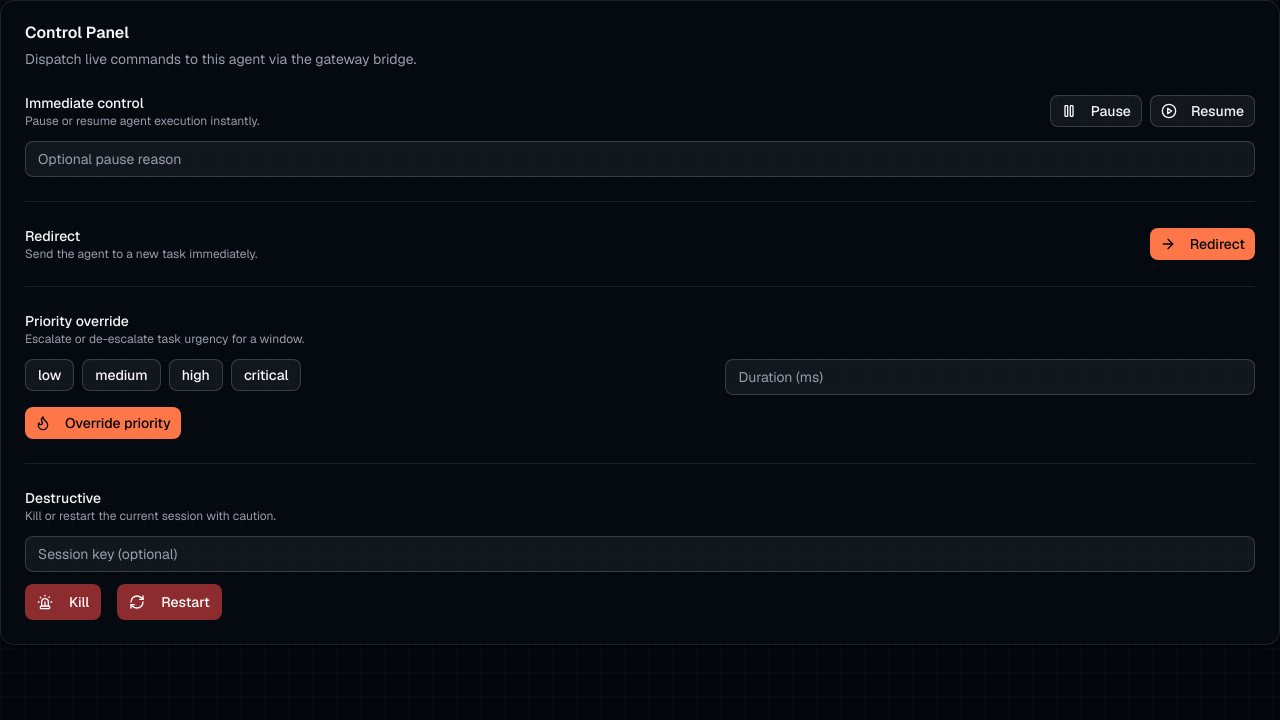
Scenario: CYD-133 UAT - Control Actions › surfaces failed operations with error details
The width and height of the screenshot is (1280, 720).
Click the button "Pause": {"x": 1096, "y": 111} [1050,95,1142,127]
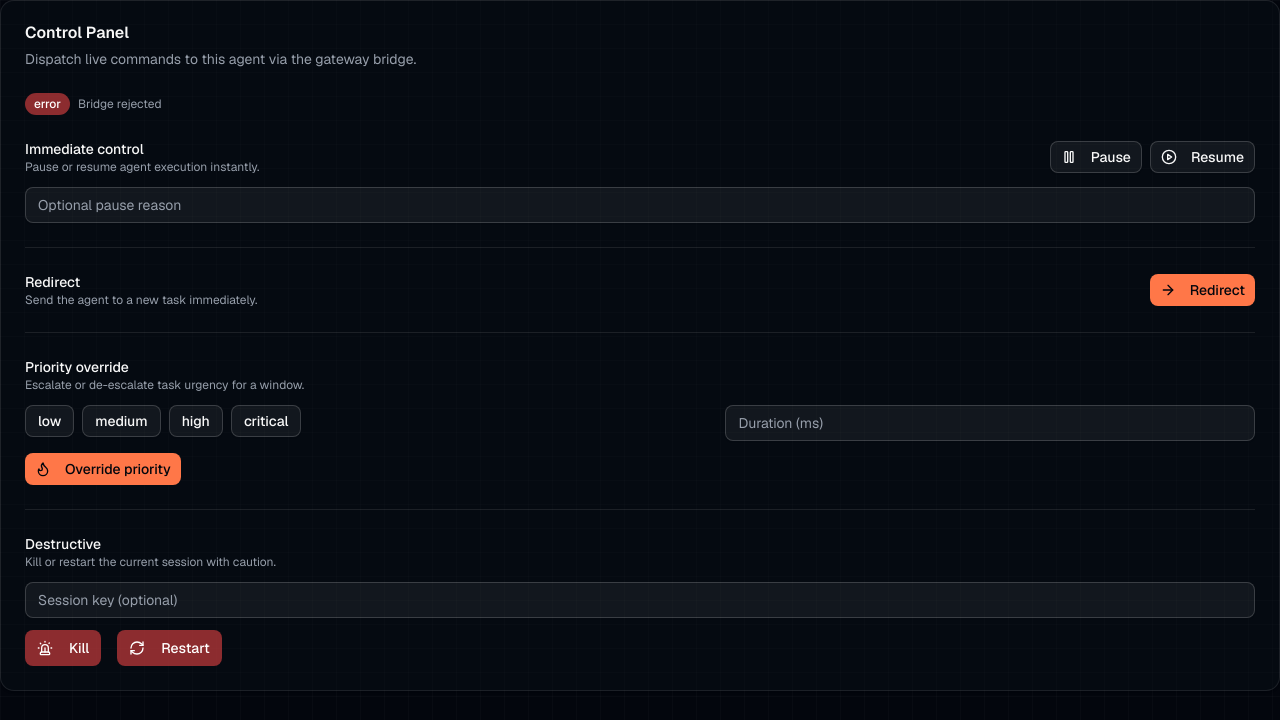
Check: the text "Bridge rejected" is shown, box [78,96,162,112]
